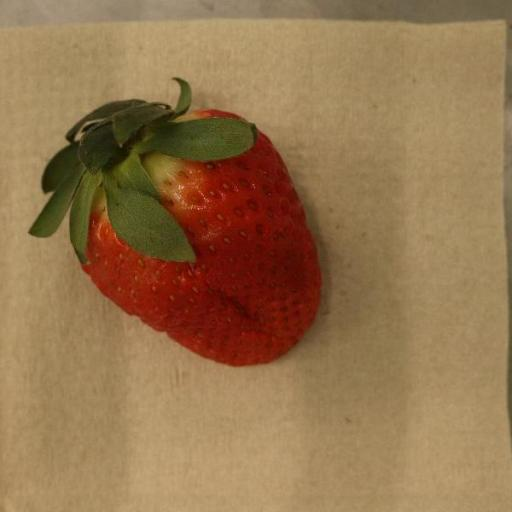Strawberry: (28, 78, 323, 369)
